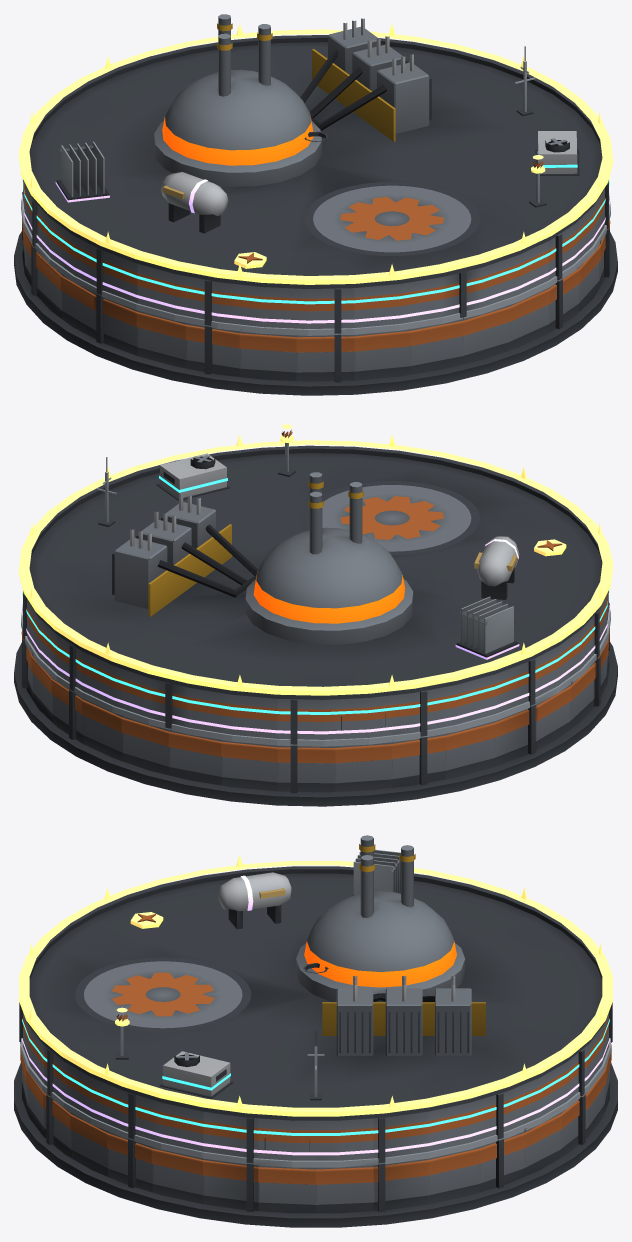
File: titanium_smelter_m_far.glb
3 views of the same model, one above another, from view 1: azimuth 30°, elevation 25°; view 2: azimuth 150°, elevation 25°; view 3: azimuth 270°, elevation 25° (orthographic).
Visible parts, largest first — view 1: Roof, Base, L5, L4, L2, L3; view 2: Roof, Base, L5, L4, L2, L3; view 3: Roof, Base, L5, L4, L2, L3.
Boxes of the visible parts, x1,y1,x2,y2 form: Roof: (23,14,608,333); Base: (14,192,617,395); L5: (19,24,612,284); L4: (22,141,609,323); L2: (21,46,610,335); L3: (22,131,609,304); Roof: (23,445,608,744); Base: (14,603,617,806); L5: (19,424,612,695); L4: (22,536,609,734); L2: (21,457,610,746); L3: (22,453,609,714); Roof: (19,835,612,1163); Base: (14,1042,617,1227); L5: (19,855,612,1116); L4: (22,849,609,1155); L2: (21,1031,610,1167); L3: (22,963,609,1135).
Size of the model in its own units: 14.75 by 6.19 by 14.75.
